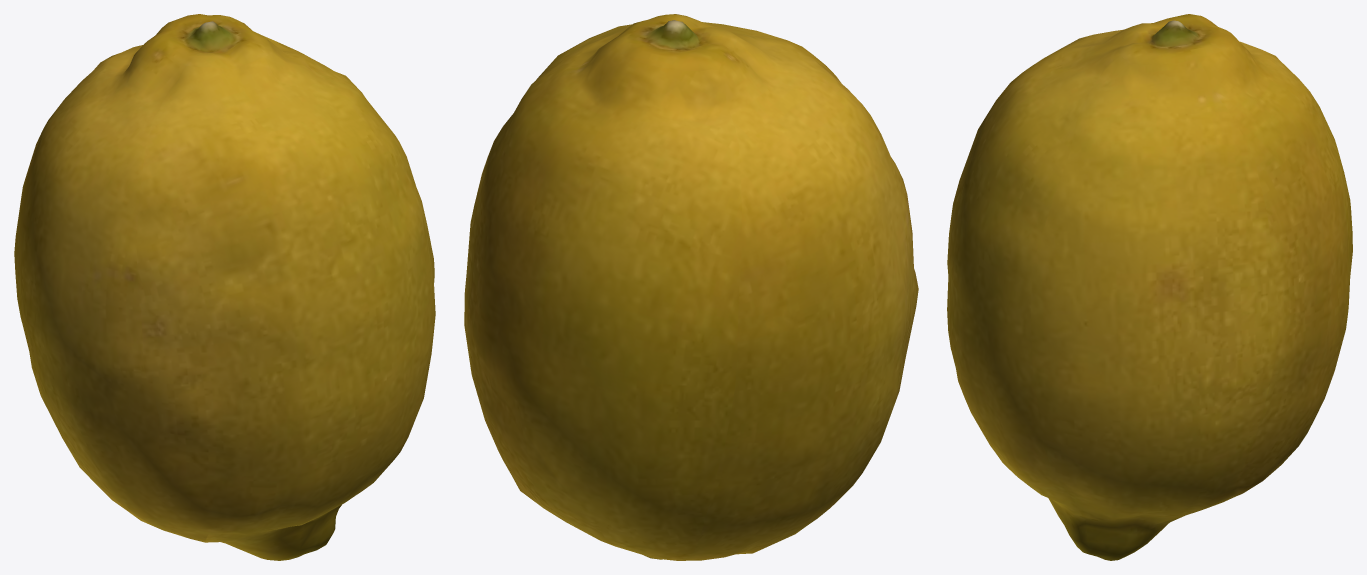
File: lemon.glb
3 renders of one model, left to right at view 1: azimuth 30°, elevation 25°; view 2: azimuth 150°, elevation 25°; view 3: azimuth 270°, elevation 25°, orthographic. The views are drawn at different scales.
Parts seen in each view (by area): view 1: lemon; view 2: lemon; view 3: lemon.
Part boxes in pixels (x1,y1,x2,y2): lemon: (14, 14, 435, 560); lemon: (464, 14, 918, 560); lemon: (947, 14, 1352, 560).
Bounding box in the file's own units: 0.0687 × 0.0953 × 0.0683.
1 material, 1 textured.
